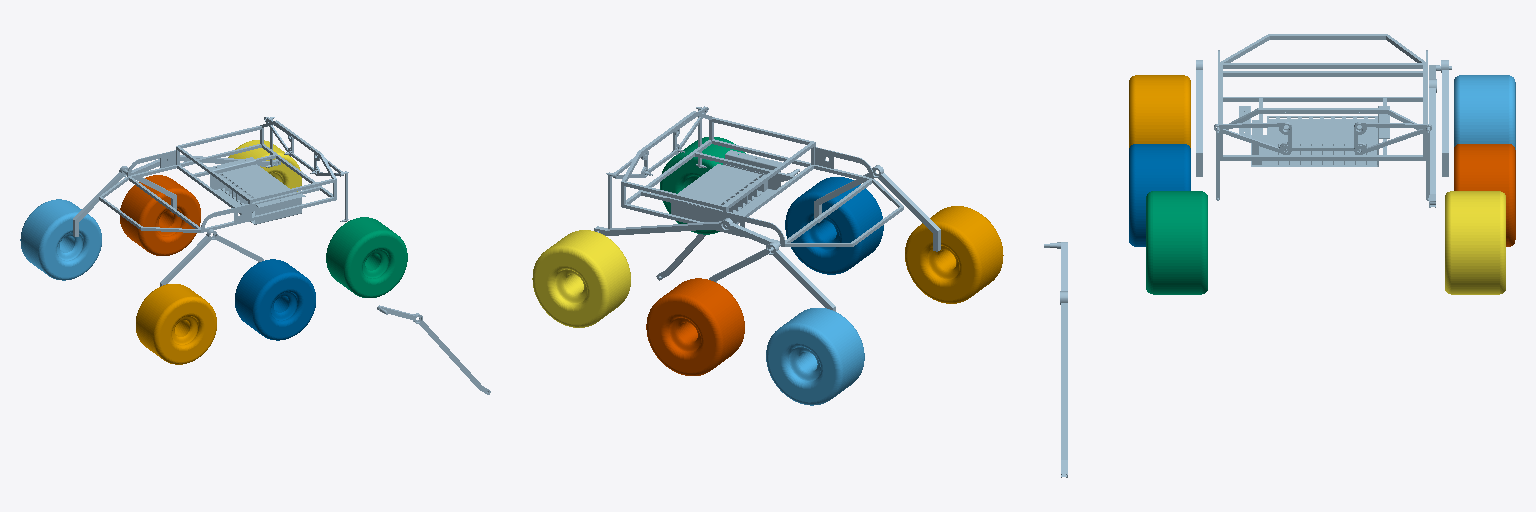
The robot description file, URDF, robot "mars_rover_iitb":
<?xml version="1.0" ?>
<!-- =================================================================================== -->
<!-- |    This document was autogenerated by xacro from msi.xacro                      | -->
<!-- |    EDITING THIS FILE BY HAND IS NOT RECOMMENDED                                 | -->
<!-- =================================================================================== -->
<robot name="mars_rover_iitb" xmlns:xacro="http://ros.org/wiki/xacro">
  <gazebo>
    <plugin filename="librover_gazebo.so" name="drive_controller">
    <topicName value="cmd_vel"/>
    </plugin>
  </gazebo>
  <!-- Included URDF/XACRO Files -->
  <!-- <xacro:include filename="$(find husky_description)/urdf/decorations.urdf.xacro" /> -->
  <!-- <xacro:include filename="$(find msi_2k16_17_urdf)/urdf/hokuyo.urdf.xacro" /> -->
  <!--<xacro:include filename="$(find msi_2k16_17_urdf)/urdf/arm.urdf" />-->
  <material name="chassis">
    <color rgba="0.67 0.78 0.85 1"/>
  </material>
  <!-- Base Size -->
  <!-- Wheel Properties -->
  <!-- Wheel Mounting Positions -->
  <!-- Base link is the center of the robot's bottom plate -->
  <link name="base_link">
    <visual>
      <geometry>
        <mesh filename="package://msi_2k16_17_urdf/meshes/chassis.stl" scale="0.01 0.01 0.01"/>
      </geometry>
      <origin rpy="0 0 -1.570795" xyz="0 0 0"/>
      <material name="chassis"/>
    </visual>
  </link>
  <gazebo reference="base_link">
    <material> Gazebo/Grey</material>
  </gazebo>
  <link name="rocker_R">
    <visual>
      <geometry>
        <mesh filename="package://msi_2k16_17_urdf/meshes/rocker_MIR.stl" scale="0.01 0.01 0.01"/>
      </geometry>
      <origin rpy="0 0 0" xyz="0 0 0"/>
      <material name="chassis"/>
    </visual>
    <inertial>
      <origin rpy="0 0 0" xyz="0 0 1"/>
      <mass value="1"/>
      <inertia ixx="1.0" ixy="0.0" ixz="0.0" iyy="1.0" iyz="0.0" izz="1.0"/>
    </inertial>
  </link>
  <joint name="rocker_R_to_chassis" type="revolute">
    <origin rpy="0 0 0" xyz=" 0 0.335 0"/>
    <parent link="base_link"/>
    <child link="rocker_R"/>
    <limit effort="20" lower="-0.17" upper="0.17" velocity="1"/>
    <axis rpy="0 0 0" xyz="0 1 0"/>
  </joint>
  <link name="rocker_L">
    <visual>
      <geometry>
        <mesh filename="package://msi_2k16_17_urdf/meshes/rocker.stl" scale="0.01 0.01 0.01"/>
      </geometry>
      <origin rpy="0 0 0" xyz="0 0 0"/>
      <material name="chassis"/>
    </visual>
    <inertial>
      <origin rpy="0 0 0" xyz="0 0 1"/>
      <mass value="1"/>
      <inertia ixx="1.0" ixy="0.0" ixz="0.0" iyy="1.0" iyz="0.0" izz="1.0"/>
    </inertial>
  </link>
  <joint name="rocker_L_to_chassis" type="revolute">
    <origin rpy="0 0 0" xyz=" 0 -0.315 0"/>
    <parent link="base_link"/>
    <child link="rocker_L"/>
    <limit effort="20" lower="-0.17" upper="0.17" velocity="1"/>
    <axis rpy="0 0 0" xyz="0 1 0"/>
  </joint>
  <link name="bogie_R">
    <visual>
      <geometry>
        <mesh filename="package://msi_2k16_17_urdf/meshes/bogie.stl" scale="0.01 0.01 0.01"/>
      </geometry>
      <origin rpy="0 0 0" xyz="0 0 0"/>
      <material name="chassis"/>
    </visual>
    <inertial>
      <origin rpy="0 0 0" xyz="0 0 1"/>
      <mass value="1"/>
      <inertia ixx="1.0" ixy="0.0" ixz="0.0" iyy="1.0" iyz="0.0" izz="1.0"/>
    </inertial>
  </link>
  <joint name="bogie_R_to_rocker" type="revolute">
    <origin rpy="0 0 0" xyz="-0.202 0.0200 -0.1434"/>
    <parent link="rocker_R"/>
    <child link="bogie_R"/>
    <limit effort="20" lower="-0.17" upper="0.17" velocity="1"/>
    <axis rpy="0 0 0" xyz="0 1 0"/>
  </joint>
  <link name="bogie_L">
    <visual>
      <geometry>
        <mesh filename="package://msi_2k16_17_urdf/meshes/bogie.stl" scale="0.01 0.01 0.01"/>
      </geometry>
      <origin rpy="0 0 0" xyz="0 0 0"/>
      <material name="chassis"/>
    </visual>
    <inertial>
      <origin rpy="0 0 0" xyz="0 0 1"/>
      <mass value="1"/>
      <inertia ixx="1.0" ixy="0.0" ixz="0.0" iyy="1.0" iyz="0.0" izz="1.0"/>
    </inertial>
  </link>
  <joint name="bogie_L_to_rocker" type="revolute">
    <origin rpy="0 0 0" xyz="-0.202 -0.044 -0.1434 "/>
    <parent link="rocker_L"/>
    <child link="bogie_L"/>
    <limit effort="20" lower="-0.17" upper="0.17" velocity="1"/>
    <axis rpy="0 0 0" xyz="0 1 0"/>
  </joint>
  <!-- Base footprint is on the ground under the robot -->
  <link name="base_footprint"/>
  <joint name="base_footprint_joint" type="fixed">
    <origin rpy="0 0 0" xyz="0 0 -0.345"/>
    <parent link="base_link"/>
    <child link="base_footprint"/>
  </joint>
  <!-- Interial link stores the robot's inertial information -->
  <link name="inertial_link">
    <inertial>
      <mass value="33.455"/>
      <origin xyz="-0.08748 -0.00085 0.09947"/>
      <inertia ixx="0.6022" ixy="-0.02364" ixz="-0.1197" iyy="1.7386" iyz="-0.001544" izz="2.0296"/>
    </inertial>
  </link>
  <joint name="inertial_joint" type="fixed">
    <origin rpy="0 0 0" xyz="0 0 0"/>
    <parent link="base_link"/>
    <child link="inertial_link"/>
  </joint>
  <!-- IMU Link is the standard mounting position for the UM6 IMU.-->
  <!-- Can be modified with environment variables in /etc/ros/setup.bash -->
  <link name="imu_link"/>
  <joint name="imu_joint" type="fixed">
    <origin rpy="0 -1.5708 3.1416" xyz="0.19 0 0.149"/>
    <parent link="base_link"/>
    <child link="imu_link"/>
  </joint>
  <gazebo reference="imu_link">
    </gazebo>
  <!-- wheel macros -->
  <link name="front_L_wheel_link">
    <inertial>
      <mass value="5"/>
      <origin xyz="0 0 0"/>
      <inertia ixx="0.02467" ixy="0" ixz="0" iyy="0.02467" iyz="0" izz="0.04411"/>
    </inertial>
    <visual>
      <origin rpy="0 0 1.570795" xyz="0 -0.09 0"/>
      <geometry>
        <mesh filename="package://msi_2k16_17_urdf/meshes/tyre.stl" scale="0.01 0.01 0.01"/>
      </geometry>
    </visual>
    <collision>
      <origin rpy="1.570795 0 0" xyz="0 0 0"/>
      <geometry>
        <cylinder length="0.18" radius="0.17"/>
      </geometry>
    </collision>
  </link>
  <gazebo reference="front_L_wheel_link">
    <mu1 value="1.0"/>
    <mu2 value="1.0"/>
    <kp value="10000000.0"/>
    <kd value="1.0"/>
    <fdir1 value="1 0 0"/>
    <material> Gazebo/FlatBlack</material>
  </gazebo>
  <joint name="front_L_wheel" type="continuous">
    <parent link="bogie_L"/>
    <child link="front_L_wheel_link"/>
    <origin rpy="0 0 0" xyz="-0.2348 -0.1146 -0.1932"/>
    <axis rpy="0 0 0" xyz="0 1 0"/>
  </joint>
  <transmission name="front_L_wheel_trans" type="SimpleTransmission">
    <type>transmission_interface/SimpleTransmission</type>
    <actuator name="front_L_wheel_motor">
      <mechanicalReduction>1</mechanicalReduction>
    </actuator>
    <joint name="front_L_wheel">
      <hardwareInterface>VelocityJointInterface</hardwareInterface>
    </joint>
  </transmission>
  <link name="front_R_wheel_link">
    <inertial>
      <mass value="5"/>
      <origin xyz="0 0 0"/>
      <inertia ixx="0.02467" ixy="0" ixz="0" iyy="0.02467" iyz="0" izz="0.04411"/>
    </inertial>
    <visual>
      <origin rpy="0 0 1.570795" xyz="0 -0.09 0"/>
      <geometry>
        <mesh filename="package://msi_2k16_17_urdf/meshes/tyre.stl" scale="0.01 0.01 0.01"/>
      </geometry>
    </visual>
    <collision>
      <origin rpy="1.570795 0 0" xyz="0 0 0"/>
      <geometry>
        <cylinder length="0.18" radius="0.17"/>
      </geometry>
    </collision>
  </link>
  <gazebo reference="front_R_wheel_link">
    <mu1 value="1.0"/>
    <mu2 value="1.0"/>
    <kp value="10000000.0"/>
    <kd value="1.0"/>
    <fdir1 value="1 0 0"/>
    <material> Gazebo/FlatBlack</material>
  </gazebo>
  <joint name="front_R_wheel" type="continuous">
    <parent link="bogie_R"/>
    <child link="front_R_wheel_link"/>
    <origin rpy="0 0 0" xyz="-0.2348 0.1146 -0.1932"/>
    <axis rpy="0 0 0" xyz="0 1 0"/>
  </joint>
  <transmission name="front_R_wheel_trans" type="SimpleTransmission">
    <type>transmission_interface/SimpleTransmission</type>
    <actuator name="front_R_wheel_motor">
      <mechanicalReduction>1</mechanicalReduction>
    </actuator>
    <joint name="front_R_wheel">
      <hardwareInterface>VelocityJointInterface</hardwareInterface>
    </joint>
  </transmission>
  <link name="rear_L_wheel_link">
    <inertial>
      <mass value="5"/>
      <origin xyz="0 0 0"/>
      <inertia ixx="0.02467" ixy="0" ixz="0" iyy="0.02467" iyz="0" izz="0.04411"/>
    </inertial>
    <visual>
      <origin rpy="0 0 1.570795" xyz="0 -0.09 0"/>
      <geometry>
        <mesh filename="package://msi_2k16_17_urdf/meshes/tyre.stl" scale="0.01 0.01 0.01"/>
      </geometry>
    </visual>
    <collision>
      <origin rpy="1.570795 0 0" xyz="0 0 0"/>
      <geometry>
        <cylinder length="0.18" radius="0.17"/>
      </geometry>
    </collision>
  </link>
  <gazebo reference="rear_L_wheel_link">
    <mu1 value="1.0"/>
    <mu2 value="1.0"/>
    <kp value="10000000.0"/>
    <kd value="1.0"/>
    <fdir1 value="1 0 0"/>
    <material> Gazebo/FlatBlack</material>
  </gazebo>
  <joint name="rear_L_wheel" type="continuous">
    <parent link="rocker_L"/>
    <child link="rear_L_wheel_link"/>
    <origin rpy="0 0 0" xyz="0.4947 -0.1083 -0.2738"/>
    <axis rpy="0 0 0" xyz="0 1 0"/>
  </joint>
  <transmission name="rear_L_wheel_trans" type="SimpleTransmission">
    <type>transmission_interface/SimpleTransmission</type>
    <actuator name="rear_L_wheel_motor">
      <mechanicalReduction>1</mechanicalReduction>
    </actuator>
    <joint name="rear_L_wheel">
      <hardwareInterface>VelocityJointInterface</hardwareInterface>
    </joint>
  </transmission>
  <link name="rear_R_wheel_link">
    <inertial>
      <mass value="5"/>
      <origin xyz="0 0 0"/>
      <inertia ixx="0.02467" ixy="0" ixz="0" iyy="0.02467" iyz="0" izz="0.04411"/>
    </inertial>
    <visual>
      <origin rpy="0 0 1.570795" xyz="0 -0.09 0"/>
      <geometry>
        <mesh filename="package://msi_2k16_17_urdf/meshes/tyre.stl" scale="0.01 0.01 0.01"/>
      </geometry>
    </visual>
    <collision>
      <origin rpy="1.570795 0 0" xyz="0 0 0"/>
      <geometry>
        <cylinder length="0.18" radius="0.17"/>
      </geometry>
    </collision>
  </link>
  <gazebo reference="rear_R_wheel_link">
    <mu1 value="1.0"/>
    <mu2 value="1.0"/>
    <kp value="10000000.0"/>
    <kd value="1.0"/>
    <fdir1 value="1 0 0"/>
    <material> Gazebo/FlatBlack</material>
  </gazebo>
  <joint name="rear_R_wheel" type="continuous">
    <parent link="rocker_R"/>
    <child link="rear_R_wheel_link"/>
    <origin rpy="0 0 0" xyz="0.4947 0.1083 -0.2738"/>
    <axis rpy="0 0 0" xyz="0 1 0"/>
  </joint>
  <transmission name="rear_R_wheel_trans" type="SimpleTransmission">
    <type>transmission_interface/SimpleTransmission</type>
    <actuator name="rear_R_wheel_motor">
      <mechanicalReduction>1</mechanicalReduction>
    </actuator>
    <joint name="rear_R_wheel">
      <hardwareInterface>VelocityJointInterface</hardwareInterface>
    </joint>
  </transmission>
  <link name="center_L_wheel_link">
    <inertial>
      <mass value="5"/>
      <origin xyz="0 0 0"/>
      <inertia ixx="0.02467" ixy="0" ixz="0" iyy="0.02467" iyz="0" izz="0.04411"/>
    </inertial>
    <visual>
      <origin rpy="0 0 1.570795" xyz="0 -0.09 0"/>
      <geometry>
        <mesh filename="package://msi_2k16_17_urdf/meshes/tyre.stl" scale="0.01 0.01 0.01"/>
      </geometry>
    </visual>
    <collision>
      <origin rpy="1.570795 0 0" xyz="0 0 0"/>
      <geometry>
        <cylinder length="0.18" radius="0.17"/>
      </geometry>
    </collision>
  </link>
  <gazebo reference="center_L_wheel_link">
    <mu1 value="1.0"/>
    <mu2 value="1.0"/>
    <kp value="10000000.0"/>
    <kd value="1.0"/>
    <fdir1 value="1 0 0"/>
    <material> Gazebo/FlatBlack</material>
  </gazebo>
  <joint name="center_L_wheel" type="continuous">
    <parent link="bogie_L"/>
    <child link="center_L_wheel_link"/>
    <origin rpy="0 0 0" xyz="0.2348 -0.1146 -0.1932"/>
    <axis rpy="0 0 0" xyz="0 1 0"/>
  </joint>
  <transmission name="center_L_wheel_trans" type="SimpleTransmission">
    <type>transmission_interface/SimpleTransmission</type>
    <actuator name="center_L_wheel_motor">
      <mechanicalReduction>1</mechanicalReduction>
    </actuator>
    <joint name="center_L_wheel">
      <hardwareInterface>VelocityJointInterface</hardwareInterface>
    </joint>
  </transmission>
  <link name="center_R_wheel_link">
    <inertial>
      <mass value="5"/>
      <origin xyz="0 0 0"/>
      <inertia ixx="0.02467" ixy="0" ixz="0" iyy="0.02467" iyz="0" izz="0.04411"/>
    </inertial>
    <visual>
      <origin rpy="0 0 1.570795" xyz="0 -0.09 0"/>
      <geometry>
        <mesh filename="package://msi_2k16_17_urdf/meshes/tyre.stl" scale="0.01 0.01 0.01"/>
      </geometry>
    </visual>
    <collision>
      <origin rpy="1.570795 0 0" xyz="0 0 0"/>
      <geometry>
        <cylinder length="0.18" radius="0.17"/>
      </geometry>
    </collision>
  </link>
  <gazebo reference="center_R_wheel_link">
    <mu1 value="1.0"/>
    <mu2 value="1.0"/>
    <kp value="10000000.0"/>
    <kd value="1.0"/>
    <fdir1 value="1 0 0"/>
    <material> Gazebo/FlatBlack</material>
  </gazebo>
  <joint name="center_R_wheel" type="continuous">
    <parent link="bogie_R"/>
    <child link="center_R_wheel_link"/>
    <origin rpy="0 0 0" xyz="0.2348 0.1146 -0.1932"/>
    <axis rpy="0 0 0" xyz="0 1 0"/>
  </joint>
  <transmission name="center_R_wheel_trans" type="SimpleTransmission">
    <type>transmission_interface/SimpleTransmission</type>
    <actuator name="center_R_wheel_motor">
      <mechanicalReduction>1</mechanicalReduction>
    </actuator>
    <joint name="center_R_wheel">
      <hardwareInterface>VelocityJointInterface</hardwareInterface>
    </joint>
  </transmission>
  <!-- Decorations MAcro -->
  <!-- <xacro:husky_decorate /> -->
  <!-- Differential Suspension -->
  <link name="differential">
    <visual>
      <geometry>
        <mesh filename="package://msi_2k16_17_urdf/meshes/differential.stl" scale="0.01 0.01 0.01"/>
      </geometry>
      <origin rpy="0 0 0" xyz="0 0 0"/>
      <material name="chassis"/>
    </visual>
    <inertial>
      <origin rpy="0 0 0" xyz="0 0 0"/>
      <mass value="1"/>
      <inertia ixx="1.0" ixy="0.0" ixz="0.0" iyy="1.0" iyz="0.0" izz="1.0"/>
    </inertial>
  </link>
  <!-- STATIC joints for differential -->
  <joint name="diff_to_chassis" type="fixed">
    <origin rpy="0 0 0" xyz="0.43 0 0"/>
    <parent link="base_link"/>
    <child link="differential"/>
  </joint>
  <!-- Join arm -->
  <!--<joint name="jaco_arm_base" type="fixed">
        <parent link="base_link" />
        <child link="base_link1" />
        <origin xyz=" -0.2 0 0" rpy="0 0 ${M_PI}" />
      </joint>-->
  <!--     <joint name="hokuyo_joint" type="fixed">
      <origin xyz="0 0 0" rpy="0 0 0" />
      <parent link="base_link" />
      <child link="base_laser_link" />
    </joint>
 -->
</robot>

--- What the picture shows (computed from the rendered views, not written in the file) ---
The picture shows the robot from 3 angles, left to right: view 1: azimuth 30°, elevation 25°; view 2: azimuth 150°, elevation 25°; view 3: azimuth 270°, elevation 25°; orthographic projection.
Model mars_rover_iitb with 15 links and 14 joints (4 revolute, 6 continuous, 4 fixed), rooted at base_link, posed all joints at 0.
Links seen in each view (by area): view 1: base_link, rear_L_wheel_link, center_L_wheel_link, front_L_wheel_link, front_R_wheel_link, center_R_wheel_link, rear_R_wheel_link, differential, rocker_L, bogie_R, bogie_L, rocker_R; view 2: base_link, center_R_wheel_link, rear_R_wheel_link, front_R_wheel_link, front_L_wheel_link, center_L_wheel_link, rear_L_wheel_link, rocker_R, bogie_L, differential, bogie_R; view 3: base_link, rear_L_wheel_link, rear_R_wheel_link, front_R_wheel_link, front_L_wheel_link, center_L_wheel_link, center_R_wheel_link, differential, rocker_L, rocker_R, bogie_R, bogie_L.
Boxes of the visible links, x1,y1,x2,y2 form: base_link: [99, 120, 336, 232]; rear_L_wheel_link: [326, 217, 407, 297]; center_L_wheel_link: [235, 259, 315, 340]; front_L_wheel_link: [136, 284, 216, 364]; front_R_wheel_link: [20, 199, 101, 280]; center_R_wheel_link: [120, 175, 200, 255]; rear_R_wheel_link: [228, 140, 301, 191]; differential: [264, 117, 348, 221]; rocker_L: [377, 305, 490, 394]; bogie_R: [73, 166, 176, 236]; bogie_L: [160, 229, 263, 286]; rocker_R: [123, 155, 280, 174]; base_link: [621, 111, 903, 246]; center_R_wheel_link: [646, 278, 744, 375]; rear_R_wheel_link: [532, 230, 630, 327]; front_R_wheel_link: [766, 308, 864, 405]; front_L_wheel_link: [905, 206, 1003, 303]; center_L_wheel_link: [785, 177, 883, 274]; rear_L_wheel_link: [660, 137, 745, 234]; rocker_R: [594, 218, 780, 252]; bogie_L: [814, 165, 940, 251]; differential: [606, 106, 708, 228]; bogie_R: [709, 242, 835, 311]; base_link: [1218, 34, 1427, 166]; rear_L_wheel_link: [1146, 191, 1207, 294]; rear_R_wheel_link: [1445, 191, 1505, 294]; front_R_wheel_link: [1454, 75, 1515, 149]; front_L_wheel_link: [1129, 75, 1190, 147]; center_L_wheel_link: [1129, 144, 1190, 246]; center_R_wheel_link: [1454, 144, 1515, 246]; differential: [1214, 122, 1431, 200]; rocker_L: [1044, 242, 1067, 477]; rocker_R: [1429, 65, 1451, 207]; bogie_R: [1441, 60, 1448, 176]; bogie_L: [1196, 60, 1202, 176].
Bounding box of the posed robot: 1.48 × 1.37 × 0.9675 m (x, y, z).
Meshes: 6 distinct files referenced, 12 mesh visuals loaded (6 binary STL).
